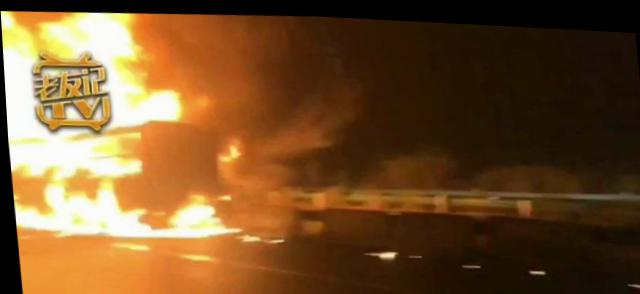fire: (0, 4, 228, 250)
